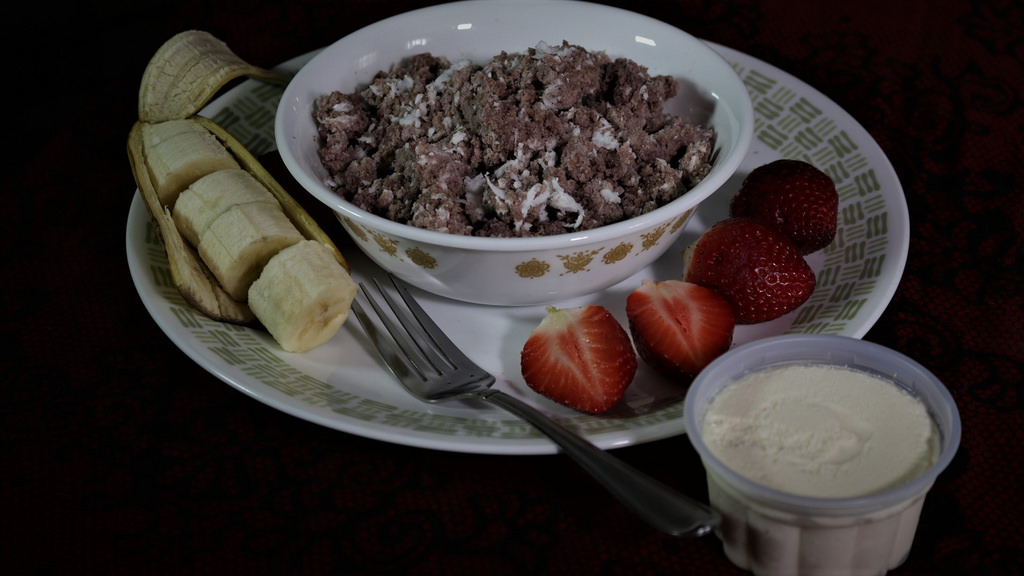meatballs: (532, 88, 614, 154)
